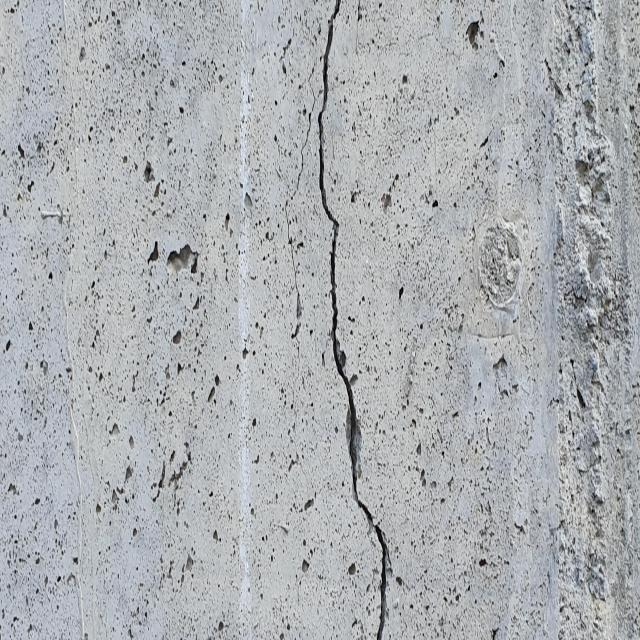SurfaceCrack: (250, 1, 426, 639), (521, 1, 639, 638)
